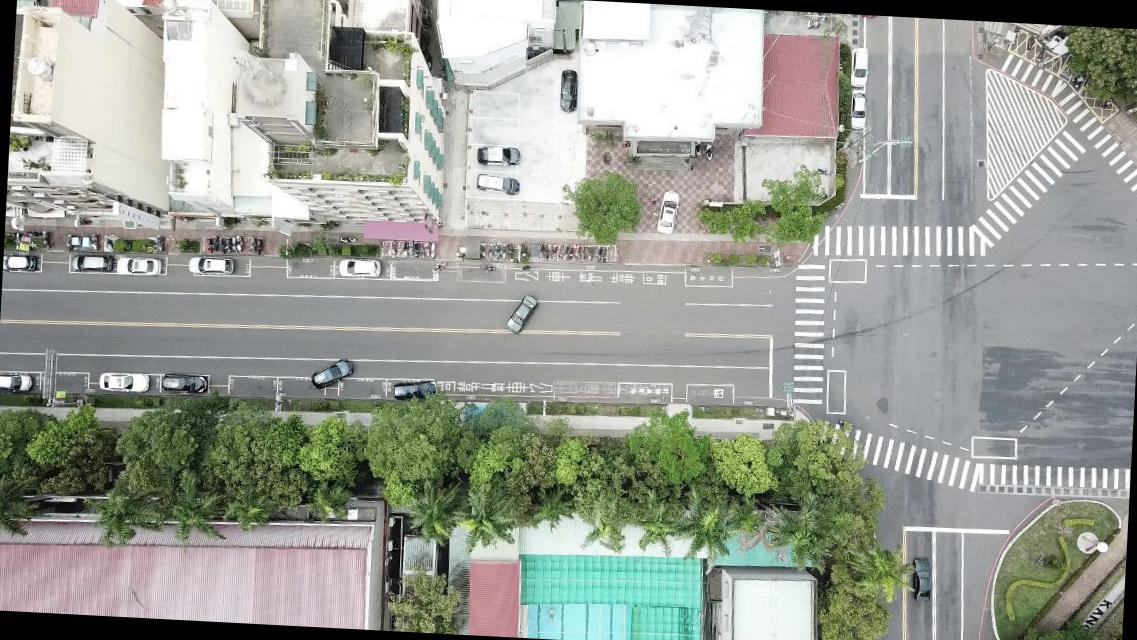vehicle: (310, 356, 353, 391), (504, 292, 538, 336), (98, 370, 150, 394), (114, 255, 162, 278), (158, 373, 208, 395), (392, 379, 438, 402), (909, 556, 931, 604), (655, 190, 679, 234), (476, 145, 521, 168), (474, 173, 520, 195), (188, 255, 234, 277), (337, 258, 382, 280), (558, 68, 579, 114), (68, 253, 112, 274), (849, 48, 870, 88), (848, 92, 868, 130), (3, 253, 38, 274), (0, 374, 35, 393)
